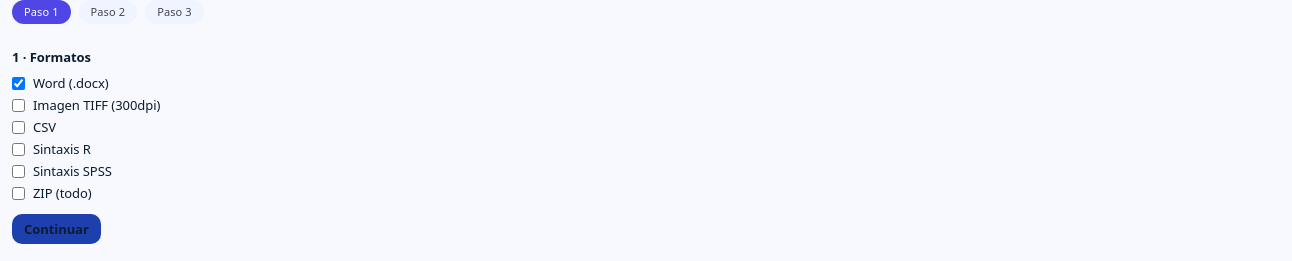
Scenario: ExportWizard › runs export on step 2 and advances to step 3 with a download link
This screenshot has width=1292, height=261.
Click the checkbox named "format zip". click: coordinates (18, 193)
box: [12,186,25,200]
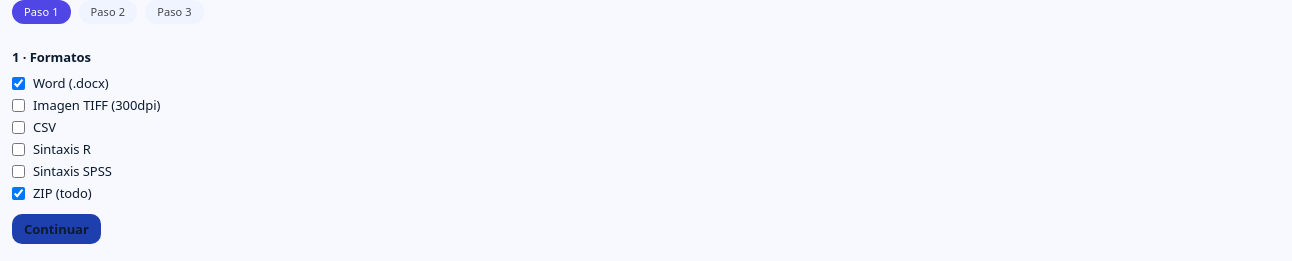
Click the button "Continuar". click: coordinates (56, 229)
box: [12,214,101,244]
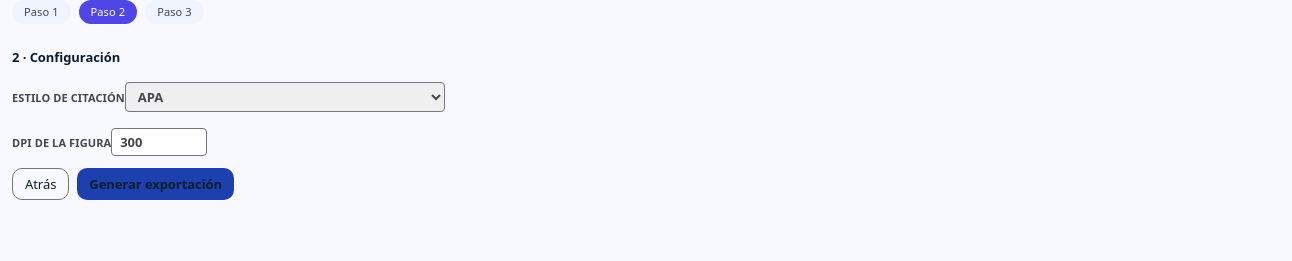
Click the button with test id "run-export". click: coordinates (156, 184)
box: [77,168,234,200]
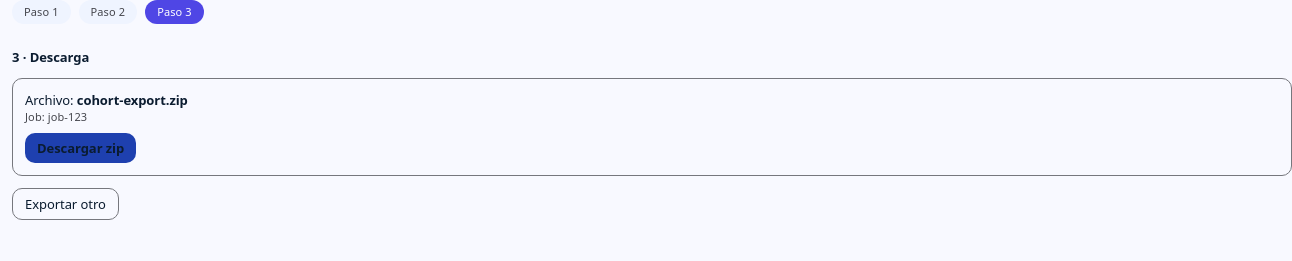
Result: the element with test id "export-results" is shown
Result: the text "cohort-export.zip" is shown at [77,91,188,109]
